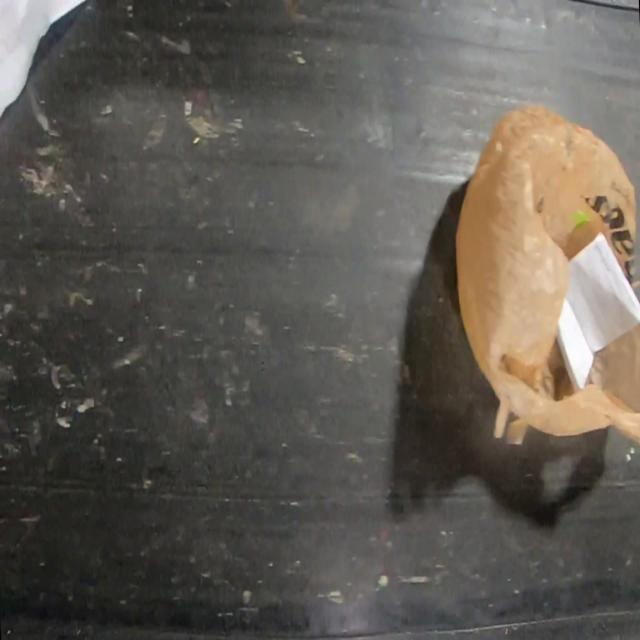soft_plastic: (456, 103, 640, 450)
